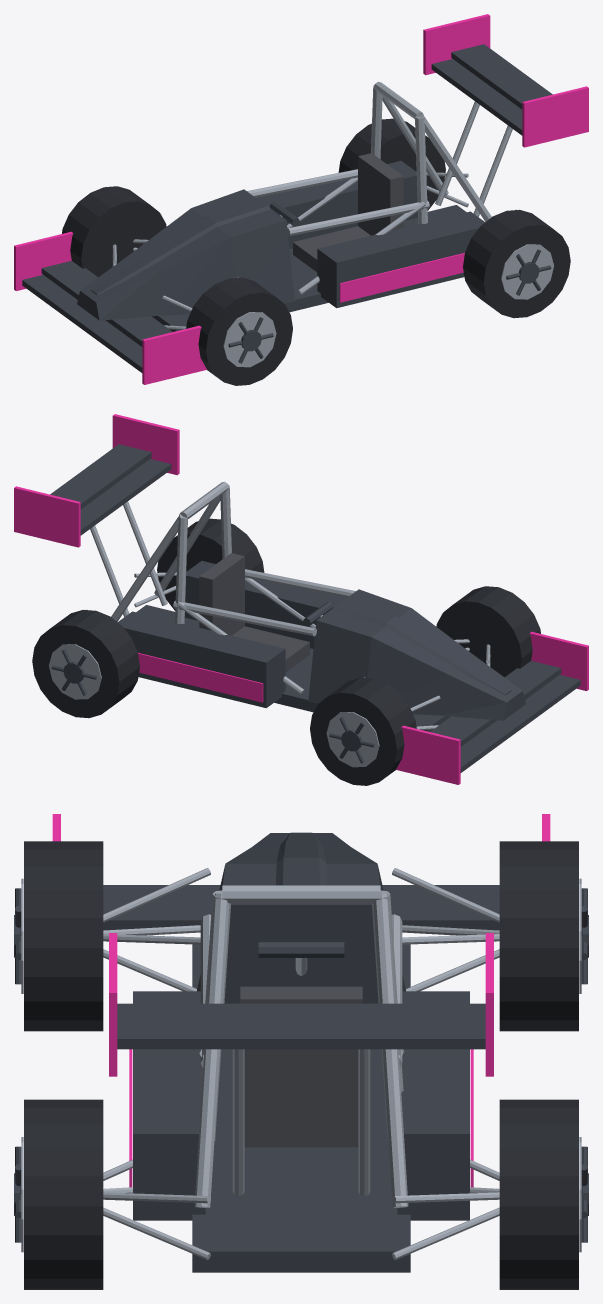
File: fsae-car-b-prototype.glb
3 views of the same model, one above another, from view 1: azimuth 30°, elevation 25°; view 2: azimuth 150°, elevation 25°; view 3: azimuth 270°, elevation 25° (orthographic). The views are drawn at different scales.
Visible parts, largest first — view 1: tire (×4), nose, sidepod (×2), wing-endplate (×4), wing-element (×4), rim (×2), seat-back, nose-pink-stripe, sidepod-livery, cockpit-side (×2), floor, rear-brace (×2) (+5 smaller); view 2: tire (×4), nose, sidepod (×2), wing-endplate (×4), wing-element (×4), rim (×2), seat-back, nose-pink-stripe, sidepod-livery, cockpit-side (×2), floor, rear-brace (×2) (+5 smaller); view 3: tire (×4), floor, wing-element (×4), sidepod (×2), nose, seat-back, wishbone (×12), rear-brace (×2), rear-wing-mount (×2), roll-hoop-top, wing-endplate (×2), nose-pink-stripe (+3 smaller).
Boxes of the visible parts, x1,y1,x2,y2 form: tire (×4): [62, 118, 570, 385]; nose: [77, 189, 294, 320]; sidepod (×2): [256, 161, 484, 308]; wing-endplate (×4): [14, 14, 588, 384]; wing-element (×4): [22, 44, 552, 372]; rim (×2): [223, 244, 553, 367]; seat-back: [358, 153, 403, 235]; nose-pink-stripe: [91, 198, 270, 295]; sidepod-livery: [339, 253, 464, 302]; cockpit-side (×2): [247, 169, 429, 236]; floor: [152, 205, 466, 331]; rear-brace (×2): [382, 96, 491, 221]; tire (×4): [32, 518, 540, 785]; nose: [308, 589, 525, 720]; sidepod (×2): [118, 561, 346, 708]; wing-endplate (×4): [14, 414, 588, 784]; wing-element (×4): [50, 444, 580, 772]; rim (×2): [49, 644, 379, 767]; seat-back: [199, 553, 244, 635]; nose-pink-stripe: [332, 598, 511, 695]; sidepod-livery: [138, 653, 263, 702]; cockpit-side (×2): [173, 569, 355, 636]; floor: [136, 605, 450, 731]; rear-brace (×2): [111, 496, 220, 621]; tire (×4): [24, 841, 578, 1289]; floor: [192, 944, 410, 1272]; wing-element (×4): [103, 885, 499, 1049]; sidepod (×2): [133, 991, 469, 1220]; nose: [197, 833, 405, 1003]; seat-back: [240, 986, 362, 1145]; wishbone (×12): [103, 868, 499, 1259]; rear-brace (×2): [194, 893, 408, 1207]; rear-wing-mount (×2): [232, 1049, 370, 1196]; roll-hoop-top: [222, 885, 380, 903]; wing-endplate (×2): [109, 933, 493, 1076]; nose-pink-stripe: [275, 832, 327, 885].
Size of the model in its own units: 3.06 by 1.23 by 1.74.
